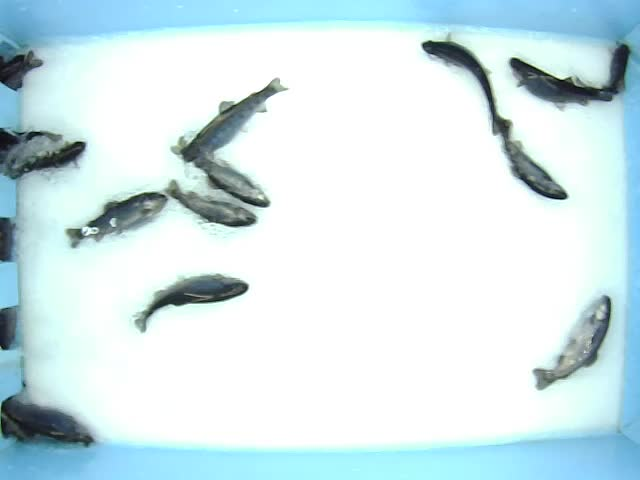fish: (179, 74, 291, 164), (419, 31, 513, 137), (530, 294, 614, 392), (169, 136, 272, 209), (130, 273, 250, 332), (63, 187, 169, 250), (494, 117, 569, 201), (508, 56, 616, 110), (166, 179, 259, 228), (3, 138, 88, 181), (572, 39, 633, 98)
